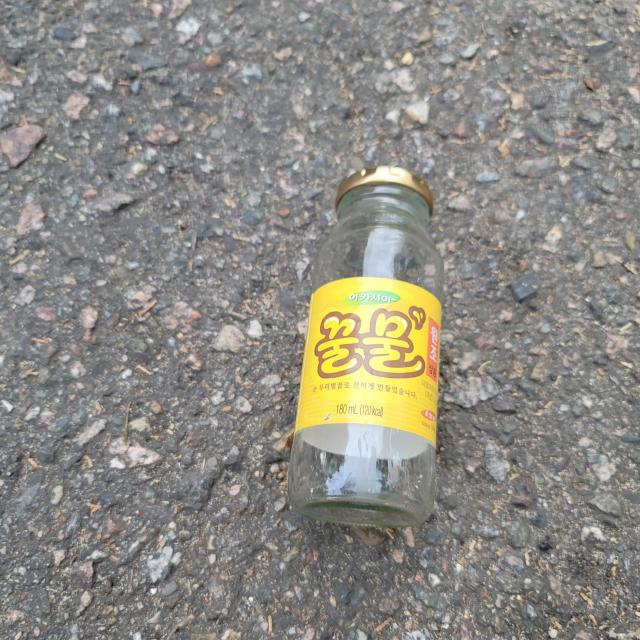glass: (290, 166, 445, 526)
